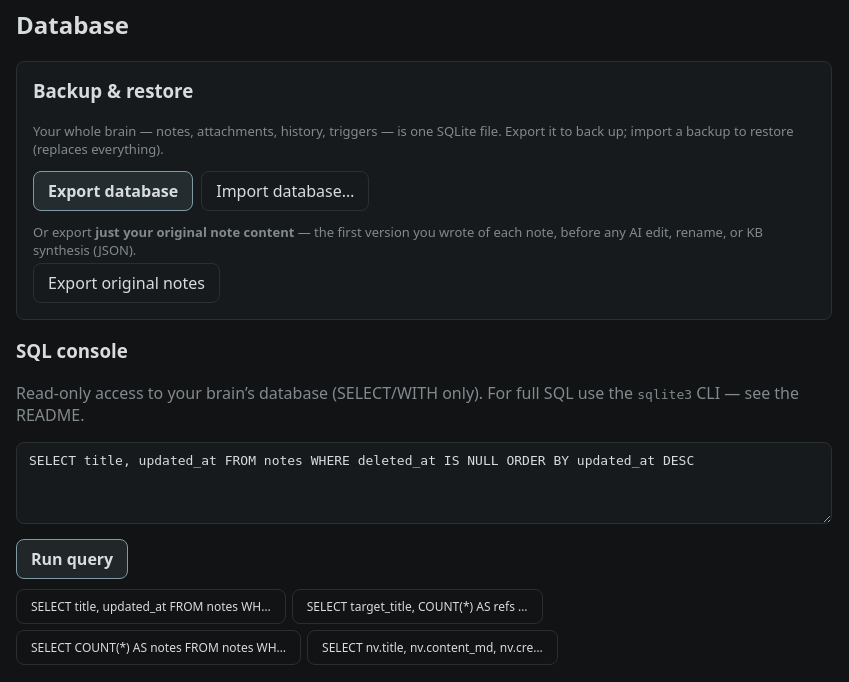
SqlConsole — backup & restore › surfaces a failed export
The image size is (849, 682).
Step 1. Click the button "Export database" → (113, 190), box [33, 170, 193, 210]
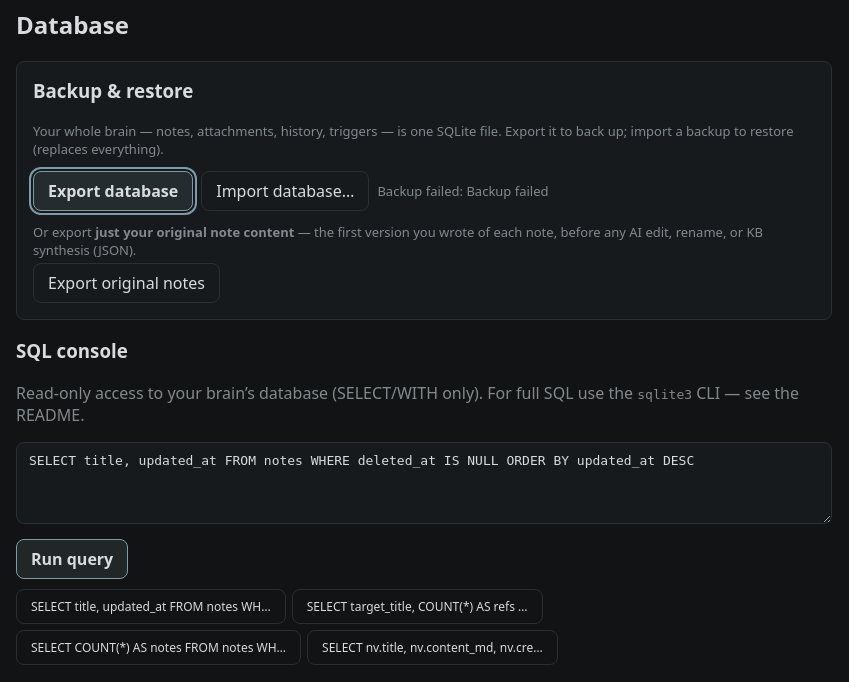
Check: the text "Backup failed: Backup failed" is shown, box [377, 182, 548, 200]
